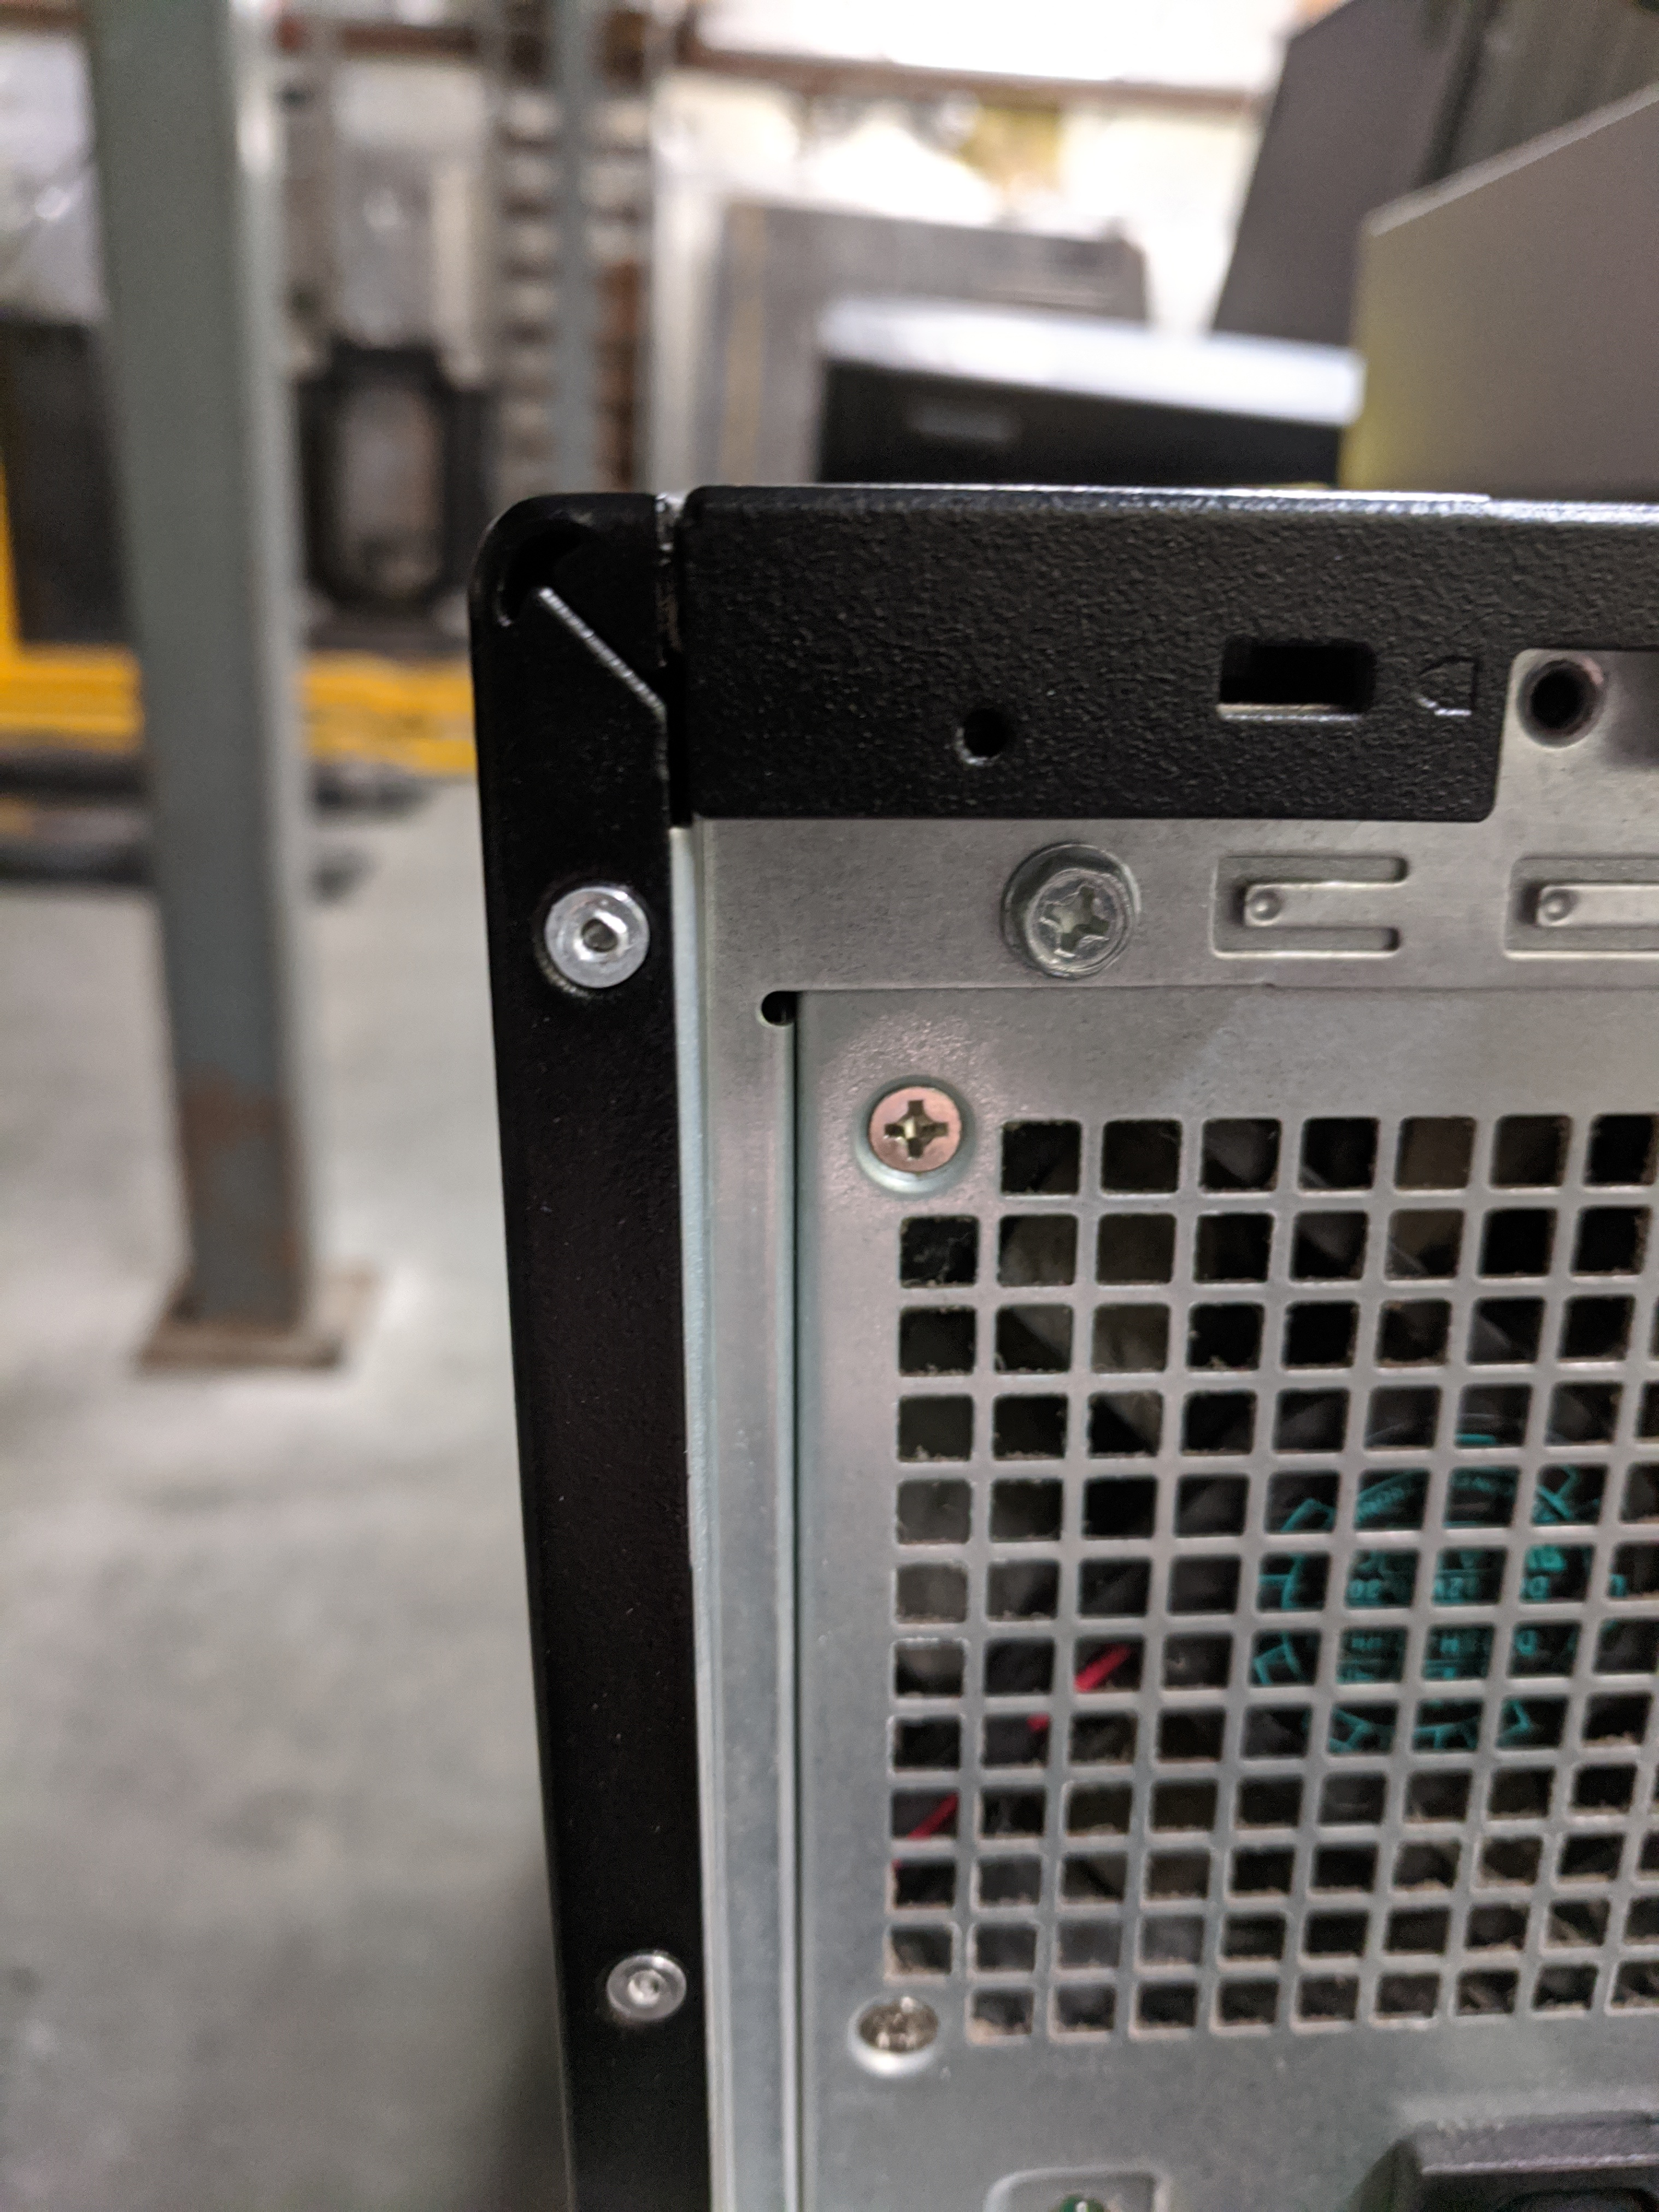cross_recessed_screw: (1011, 845, 1143, 981), (852, 1062, 986, 1183), (847, 1984, 945, 2083)
